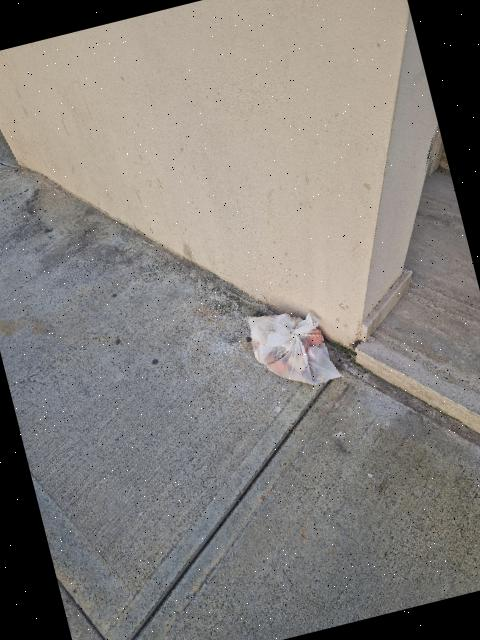Organic -White-: (246, 312, 341, 384)
